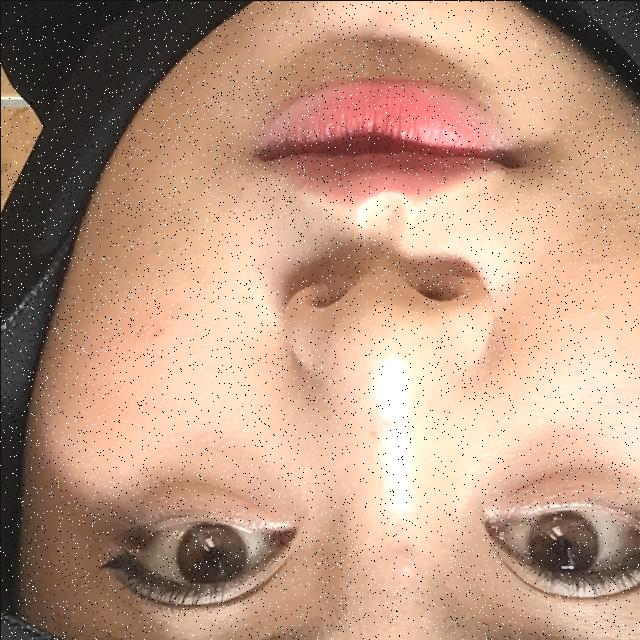ibu: (368, 0, 640, 489)
